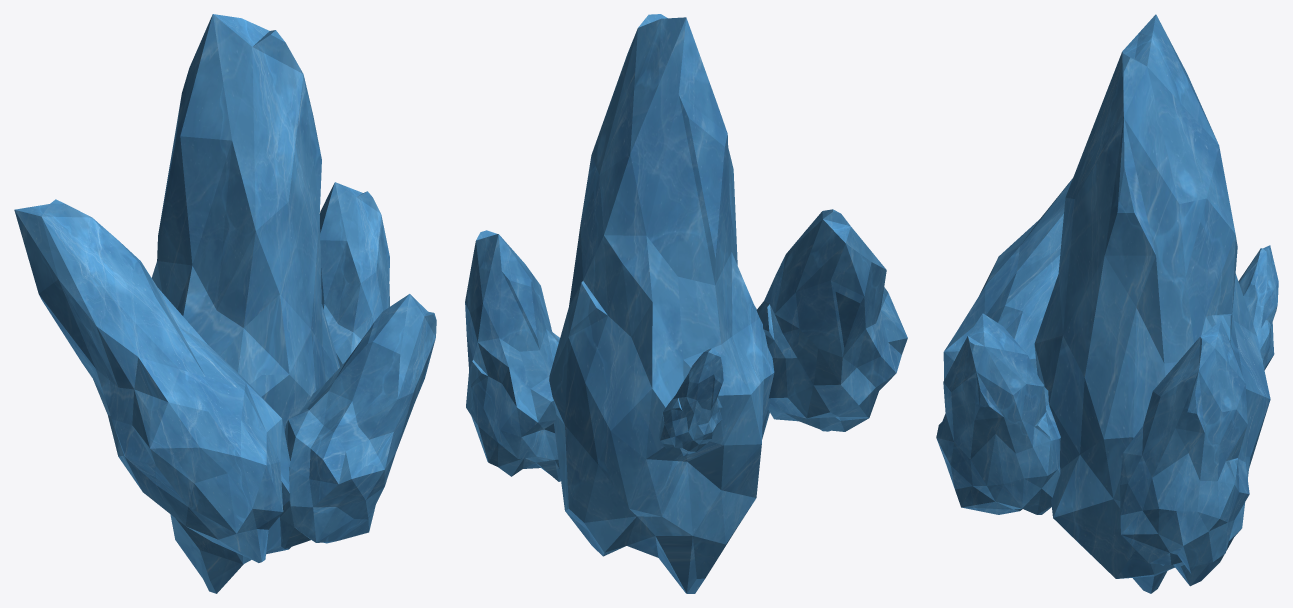
The model's file is Iceberg_Spikes (1).fbx.
3 views of the same model, side by side, from view 1: azimuth 30°, elevation 25°; view 2: azimuth 150°, elevation 25°; view 3: azimuth 270°, elevation 25° (orthographic).
Visible parts, largest first — view 1: Iceberg from Poly by Google, Iceberg from Poly by Google.003, Iceberg from Poly by Google.004, Iceberg from Poly by Google.002; view 2: Iceberg from Poly by Google, Iceberg from Poly by Google.003, Iceberg from Poly by Google.002, Iceberg from Poly by Google.001; view 3: Iceberg from Poly by Google, Iceberg from Poly by Google.002, Iceberg from Poly by Google.004, Iceberg from Poly by Google.003, Iceberg from Poly by Google.001.
Boxes of the visible parts, bbox=[...] form: Iceberg from Poly by Google: bbox=[152, 14, 339, 593]; Iceberg from Poly by Google.003: bbox=[14, 199, 290, 562]; Iceberg from Poly by Google.004: bbox=[279, 294, 436, 548]; Iceberg from Poly by Google.002: bbox=[320, 182, 389, 366]; Iceberg from Poly by Google: bbox=[549, 14, 774, 593]; Iceberg from Poly by Google.003: bbox=[756, 209, 907, 431]; Iceberg from Poly by Google.002: bbox=[465, 230, 560, 481]; Iceberg from Poly by Google.001: bbox=[659, 348, 723, 456]; Iceberg from Poly by Google: bbox=[1034, 14, 1270, 593]; Iceberg from Poly by Google.002: bbox=[1120, 320, 1249, 574]; Iceberg from Poly by Google.004: bbox=[936, 313, 1060, 514]; Iceberg from Poly by Google.003: bbox=[943, 178, 1072, 379]; Iceberg from Poly by Google.001: bbox=[1238, 245, 1278, 370].
Size of the model in its own units: 166 by 246 by 132.
1 material, 1 textured.
